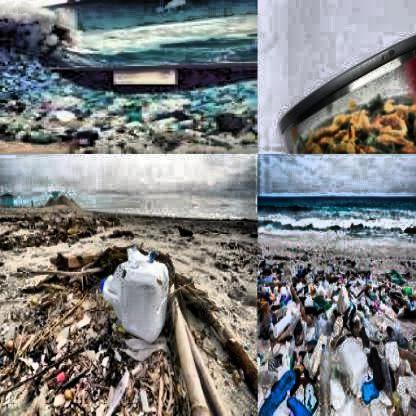Plastic wastes: (101, 258, 173, 341), (259, 367, 302, 415)
Wood wastes: (22, 308, 122, 408), (174, 337, 230, 415)
